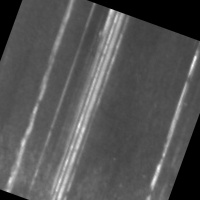scratches: (31, 6, 138, 200), (0, 0, 87, 192), (130, 49, 200, 200)
